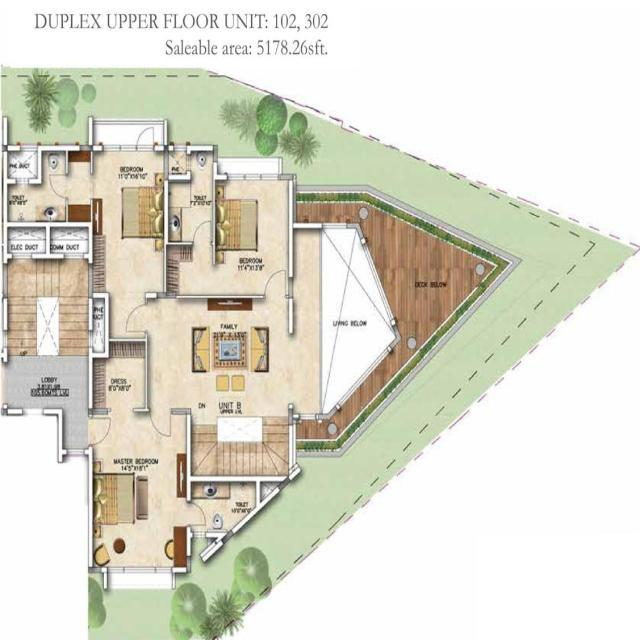Bedroom: (90, 145, 167, 298), (212, 174, 295, 296)
Bedroom with Toilet: (89, 410, 191, 576)
Dress: (89, 338, 149, 413), (165, 242, 215, 295)
Living: (148, 296, 293, 412)
Toilet: (4, 144, 91, 225), (189, 480, 256, 538), (163, 173, 214, 246)
